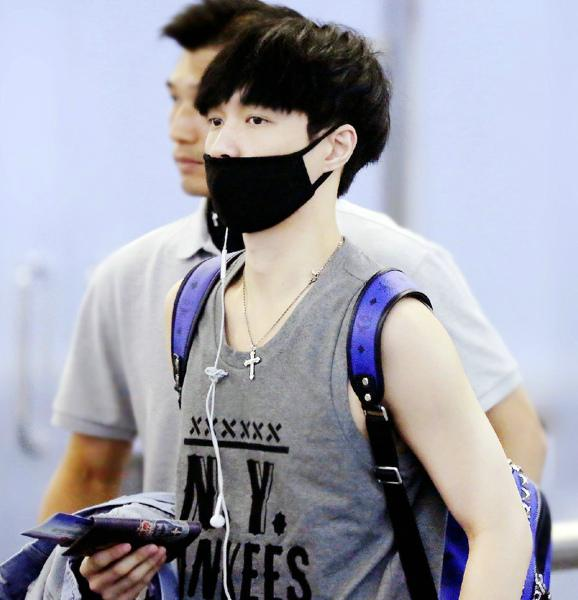NONE: (172, 68, 250, 194)
WRONG: (203, 93, 323, 229)
